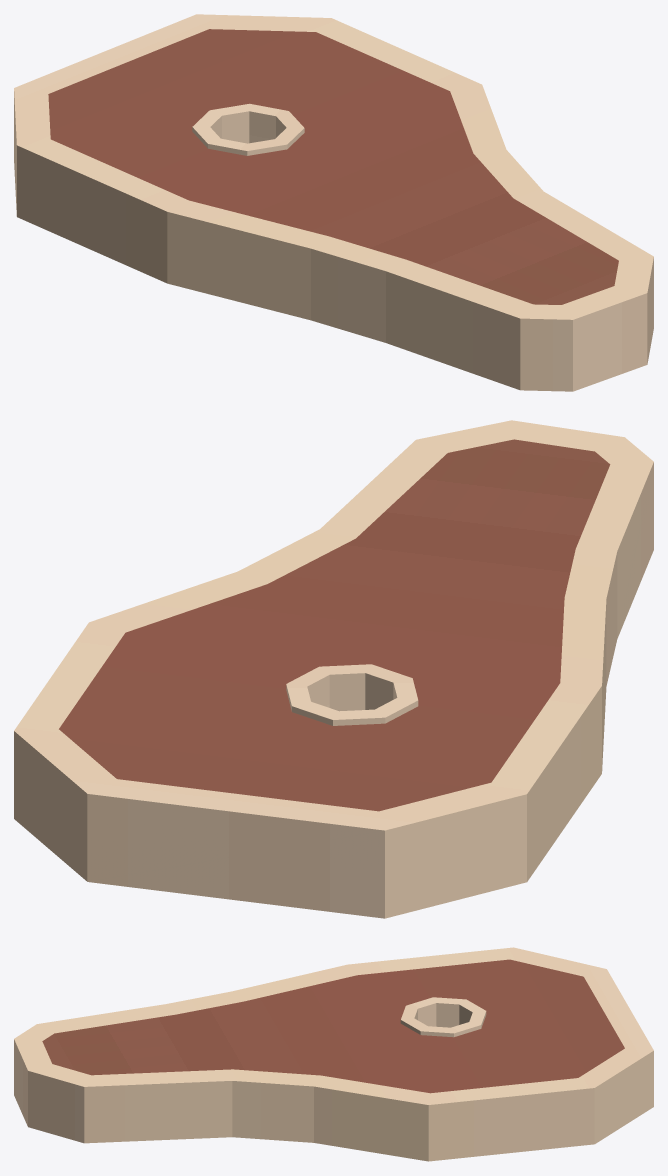
The model's file is scene_mOAczHAVob.glb.
3 views of the same model, one above another, from view 1: azimuth 30°, elevation 25°; view 2: azimuth 150°, elevation 25°; view 3: azimuth 270°, elevation 25° (orthographic). The views are drawn at different scales.
Visible parts, largest first — view 1: Cube.014_Cube.044; view 2: Cube.014_Cube.044; view 3: Cube.014_Cube.044.
Boxes of the visible parts, box(x1,y1,x2,y2) form: Cube.014_Cube.044: box(14, 14, 653, 391); Cube.014_Cube.044: box(14, 420, 653, 918); Cube.014_Cube.044: box(14, 947, 653, 1161).
Bounding box in the file's own units: 1.48 × 0.2829 × 2.53.
Materials: 1 (1 with a texture image).
